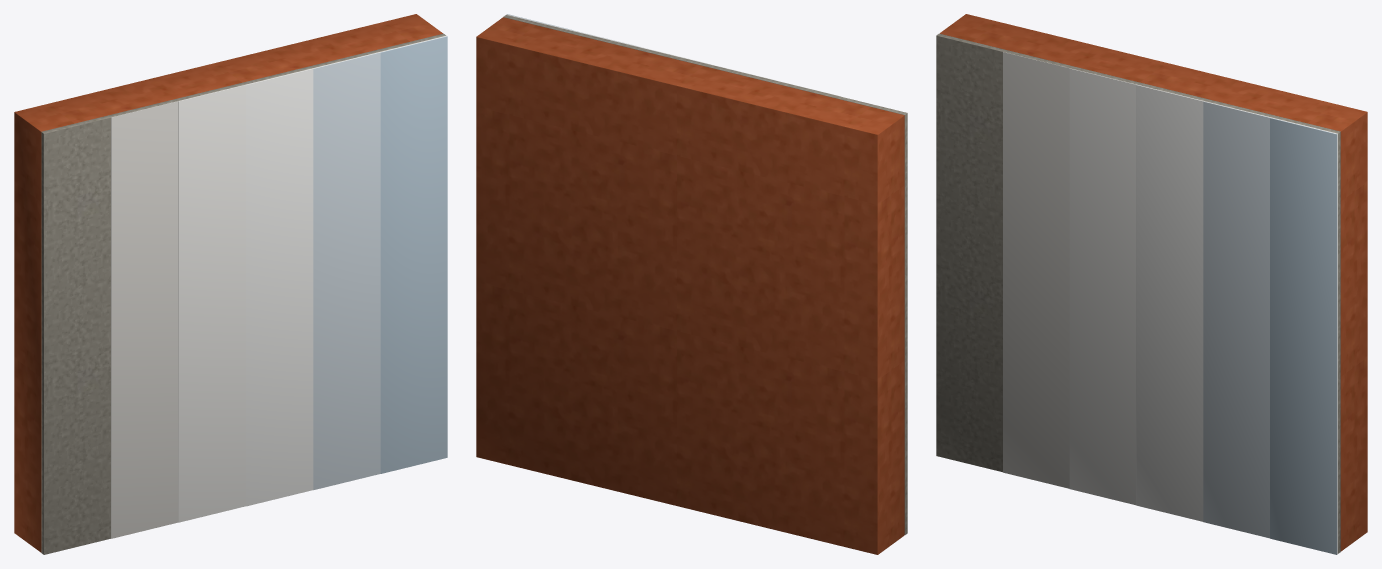
The model's file is KIT-PIN-01_lod1.glb.
3 views of the same model, side by side, from view 1: azimuth 30°, elevation 25°; view 2: azimuth 150°, elevation 25°; view 3: azimuth 330°, elevation 25° (orthographic).
Parts seen in each view (by area): view 1: KIT-PIN-01_reboco, KIT-PIN-01_lixado, KIT-PIN-01_massa, KIT-PIN-01_selador, KIT-PIN-01_demao1, KIT-PIN-01_demao2, KIT-PIN-01_alvenaria; view 2: KIT-PIN-01_alvenaria, KIT-PIN-01_reboco; view 3: KIT-PIN-01_reboco, KIT-PIN-01_selador, KIT-PIN-01_lixado, KIT-PIN-01_massa, KIT-PIN-01_demao1, KIT-PIN-01_demao2, KIT-PIN-01_alvenaria.
Part boxes in pixels (box(x1,y1,x2,y2)): KIT-PIN-01_reboco: box(41, 33, 445, 554); KIT-PIN-01_lixado: box(111, 35, 446, 538); KIT-PIN-01_massa: box(178, 36, 445, 522); KIT-PIN-01_selador: box(246, 36, 446, 506); KIT-PIN-01_demao1: box(313, 36, 446, 490); KIT-PIN-01_demao2: box(380, 36, 447, 473); KIT-PIN-01_alvenaria: box(14, 14, 442, 552); KIT-PIN-01_alvenaria: box(476, 17, 904, 554); KIT-PIN-01_reboco: box(503, 15, 907, 534); KIT-PIN-01_reboco: box(936, 33, 1340, 553); KIT-PIN-01_selador: box(1136, 85, 1337, 554); KIT-PIN-01_lixado: box(1003, 52, 1337, 553); KIT-PIN-01_massa: box(1069, 68, 1337, 505); KIT-PIN-01_demao1: box(1203, 101, 1337, 554); KIT-PIN-01_demao2: box(1270, 118, 1336, 554); KIT-PIN-01_alvenaria: box(940, 14, 1367, 551).
Size of the model in its own units: 1.2 by 1.2 by 0.161.
7 materials, 2 textured.
